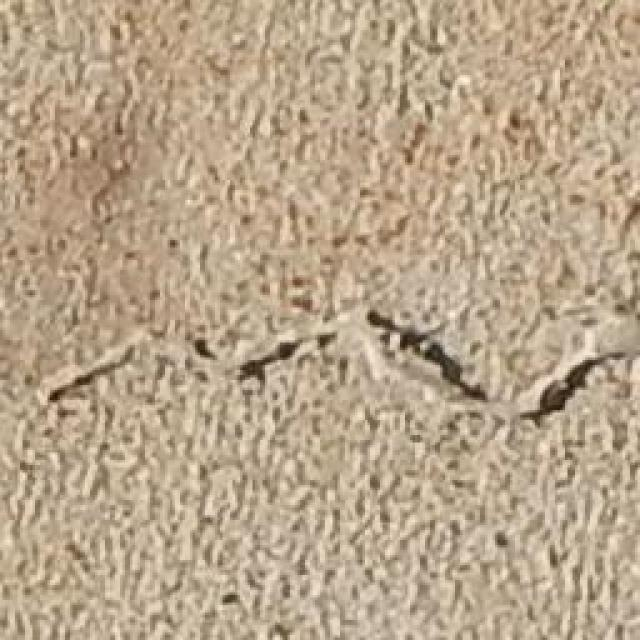concrete-crack: (48, 305, 640, 425)
